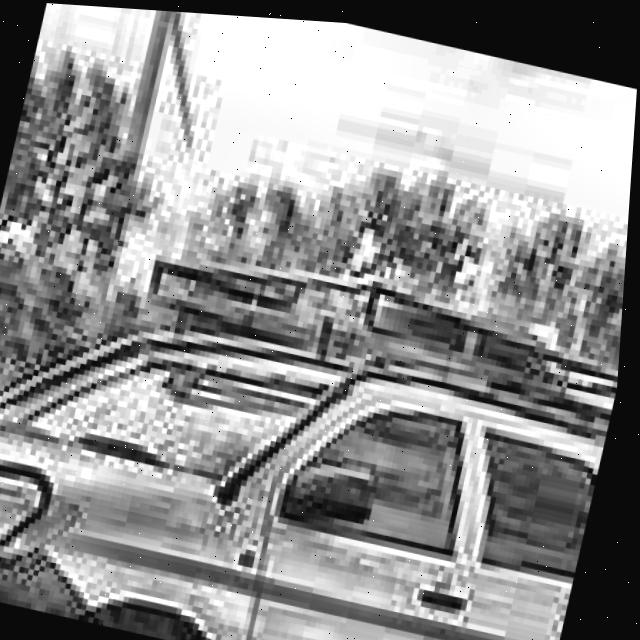light_vehicle: (0, 157, 632, 640)
